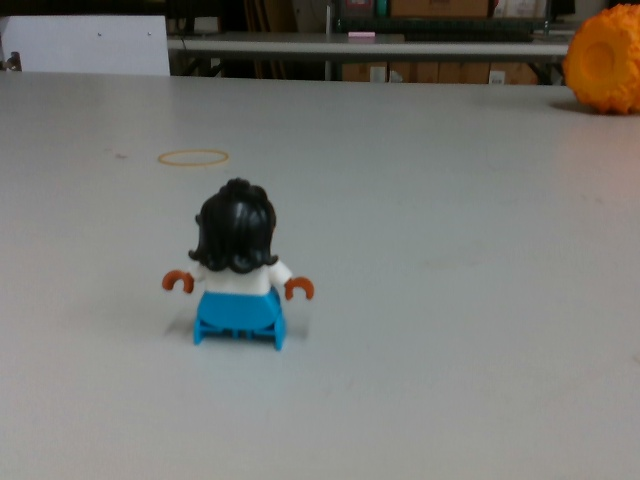people: (163, 177, 319, 358)
